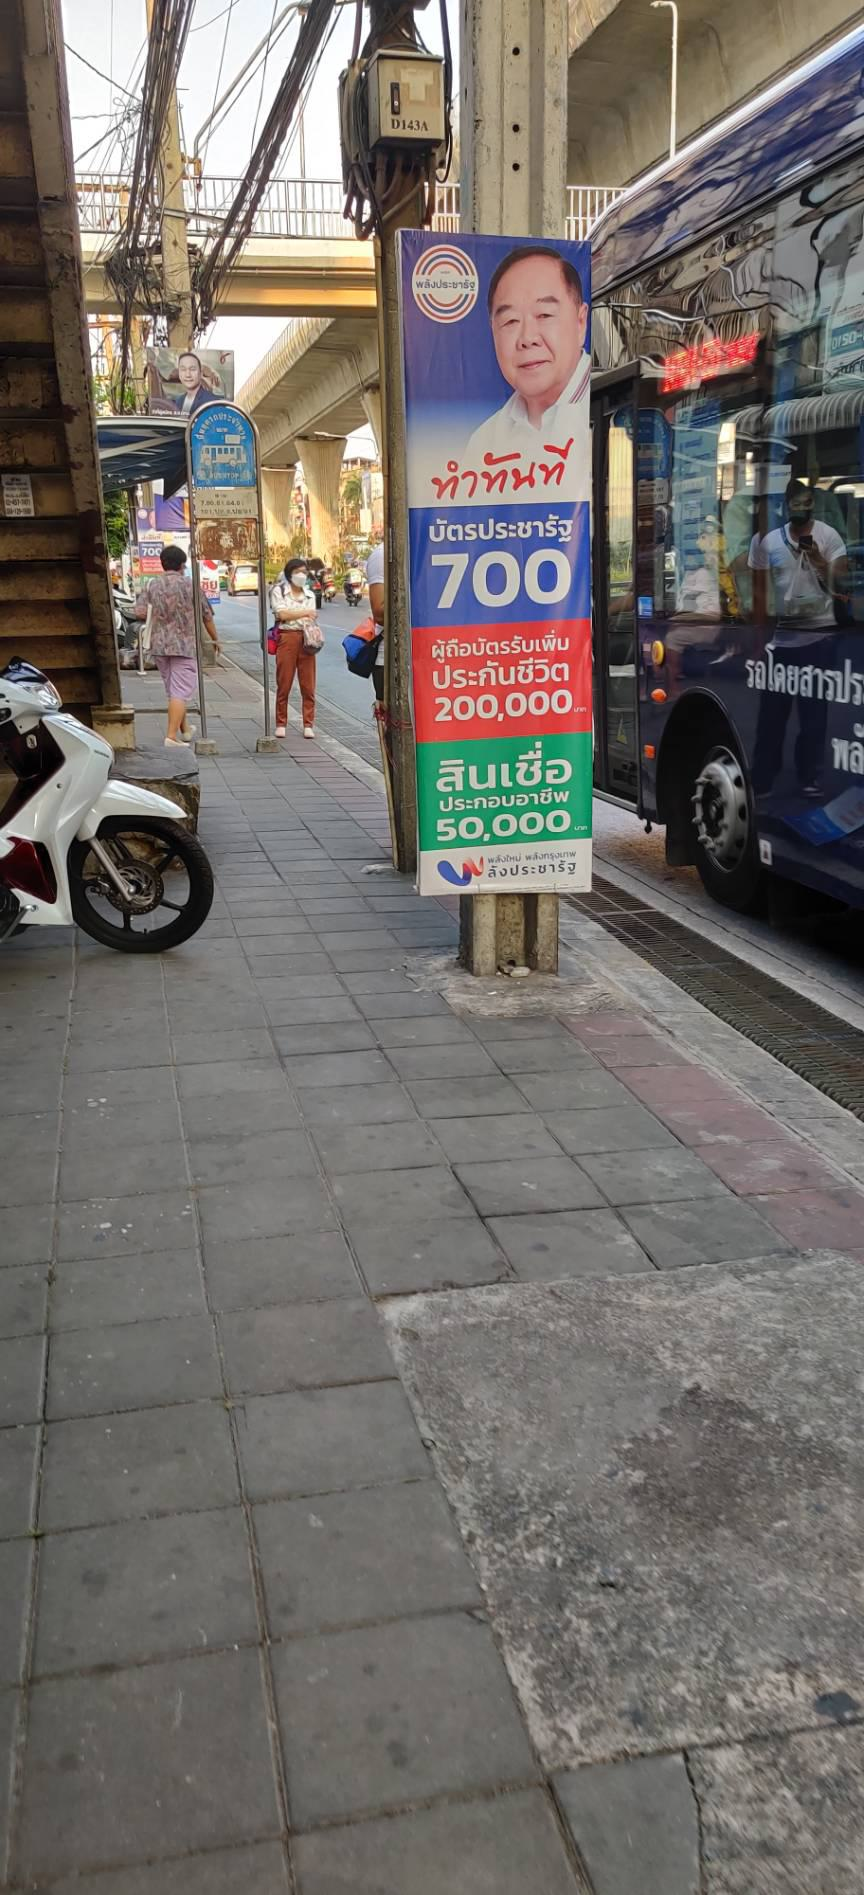Banner: (382, 222, 607, 904)
